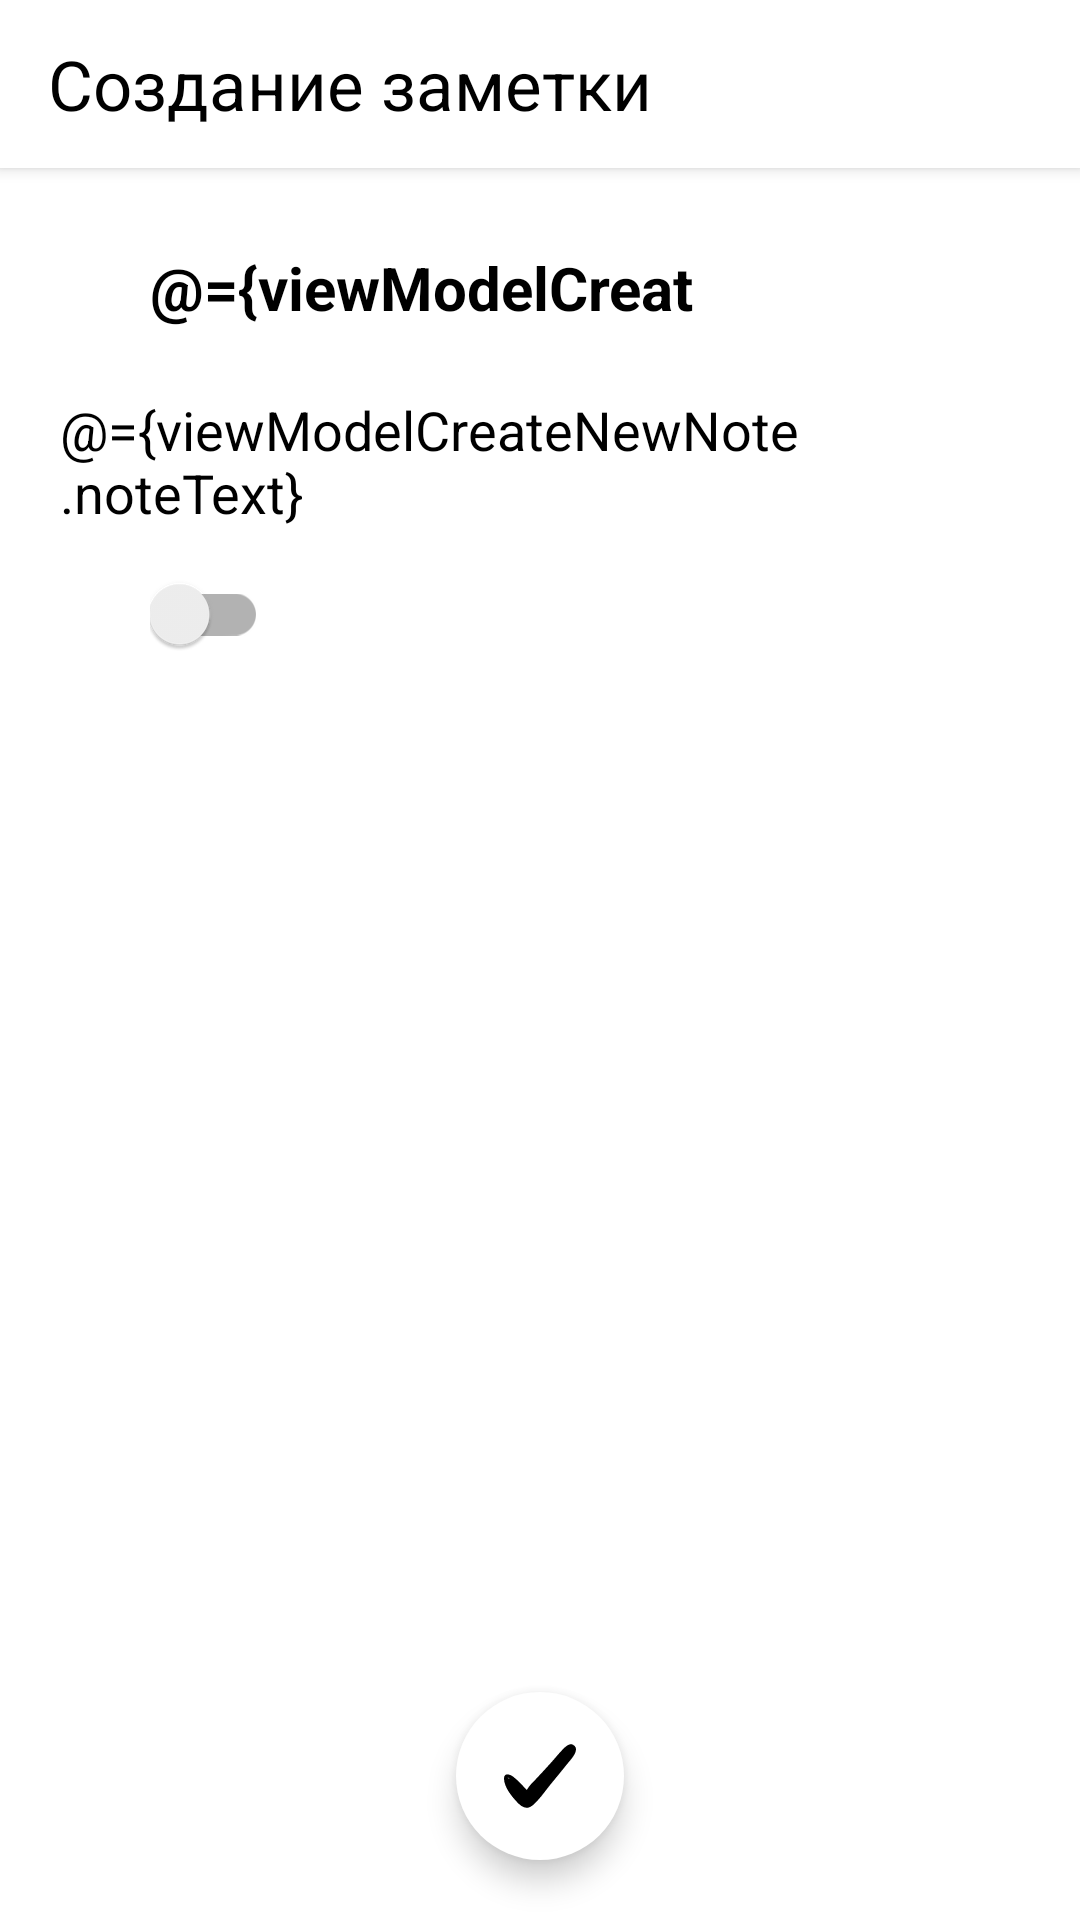

Where icons sit on this 1080px×1920px app screen, as (x1, y1, x2, y2):
check mark: (504, 1744, 624, 1808)
